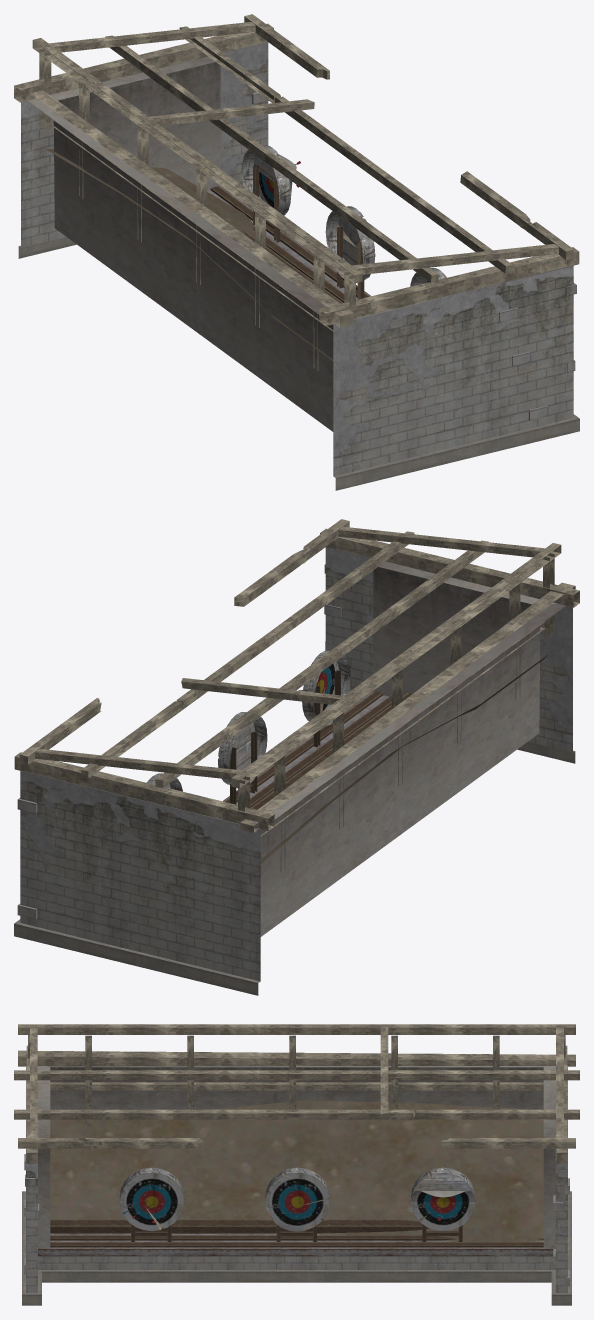
Rendered from Archery_STR_House_02_0.fbx.
3 renders of one model, top to bottom at view 1: azimuth 30°, elevation 25°; view 2: azimuth 150°, elevation 25°; view 3: azimuth 270°, elevation 25°, orthographic. The views are drawn at different scales.
Parts seen in each view (by area): view 1: Archery_STR_House_02_0; view 2: Archery_STR_House_02_0; view 3: Archery_STR_House_02_0.
Part boxes in pixels (x1,y1,x2,y2): Archery_STR_House_02_0: [14, 14, 579, 490]; Archery_STR_House_02_0: [14, 519, 579, 995]; Archery_STR_House_02_0: [14, 1024, 579, 1305].
Bounding box in the file's own units: 629 × 506 × 1399.
Materials: 1 (1 with a texture image).
